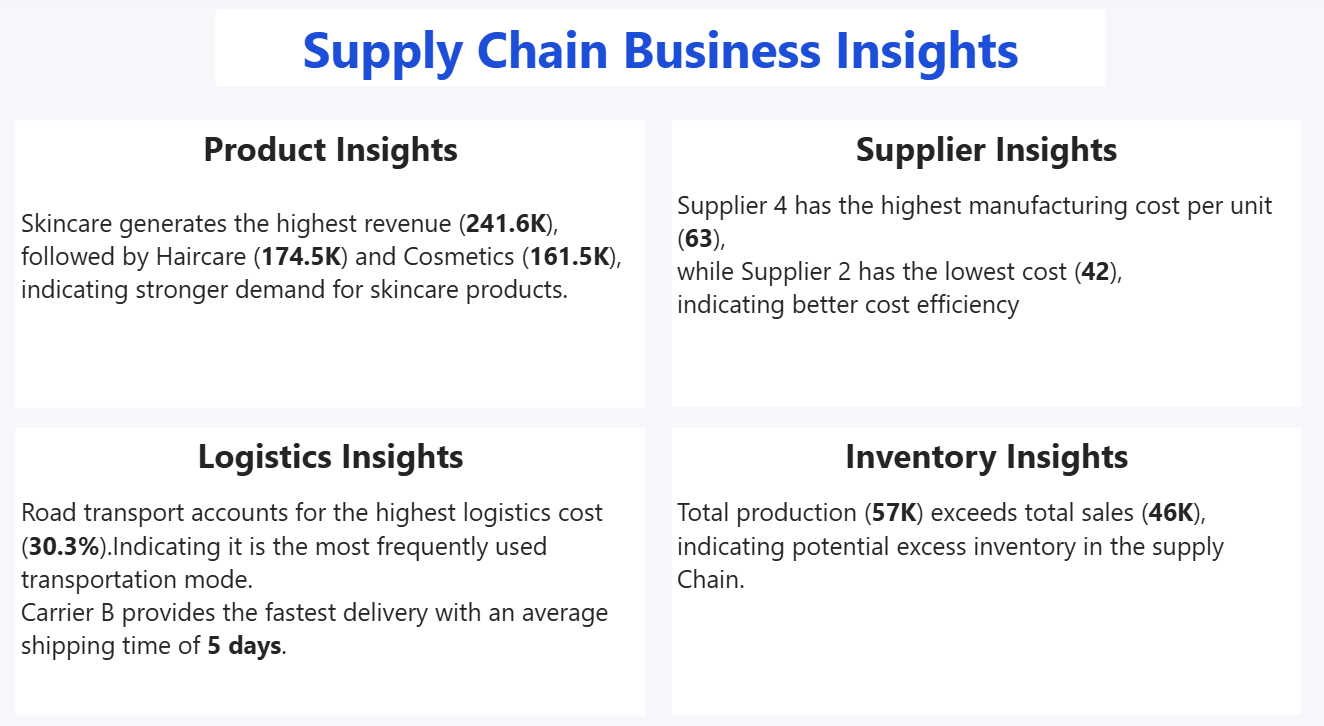

What the dashboard file says about the page in this screenshot:
{"tool":"powerbi","page":{"name":"Business Insights","canvas":[1280,720],"ordinal":2},"visuals":[{"type":"textbox","box":[210.5,14.5,859,74.8],"z":0},{"type":"textbox","box":[16.9,121.9,608,277.5],"z":1000},{"type":"textbox","box":[650.3,121.9,608,277],"z":2000},{"type":"textbox","box":[16.9,418.6,608,277.5],"z":3000},{"type":"textbox","box":[650,419,608,277],"z":4000}]}

Visuals, with their boxes in screenshot pixels (x1, y1, x2, y2), scaled from the page's 1280x720 canvas onto the 1324x726 screenshot:
textbox: [x1=218, y1=15, x2=1106, y2=90]
textbox: [x1=17, y1=123, x2=646, y2=403]
textbox: [x1=673, y1=123, x2=1302, y2=402]
textbox: [x1=17, y1=422, x2=646, y2=702]
textbox: [x1=672, y1=422, x2=1301, y2=702]
